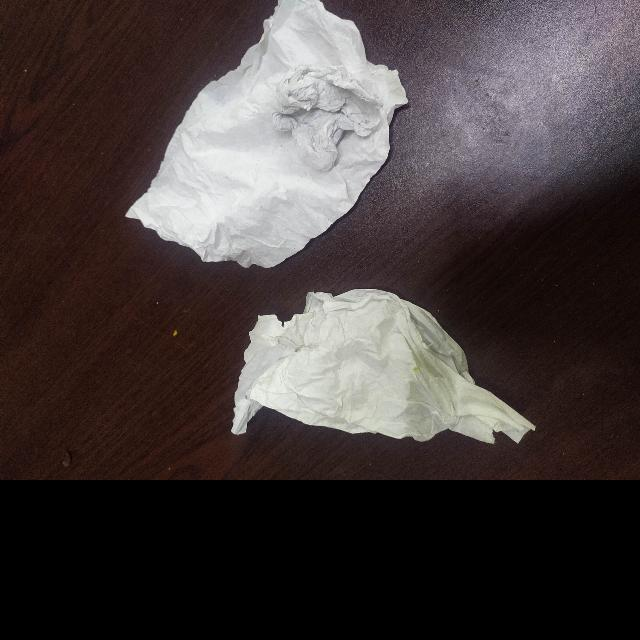kitchen paper: (119, 7, 414, 263), (223, 279, 534, 466)
